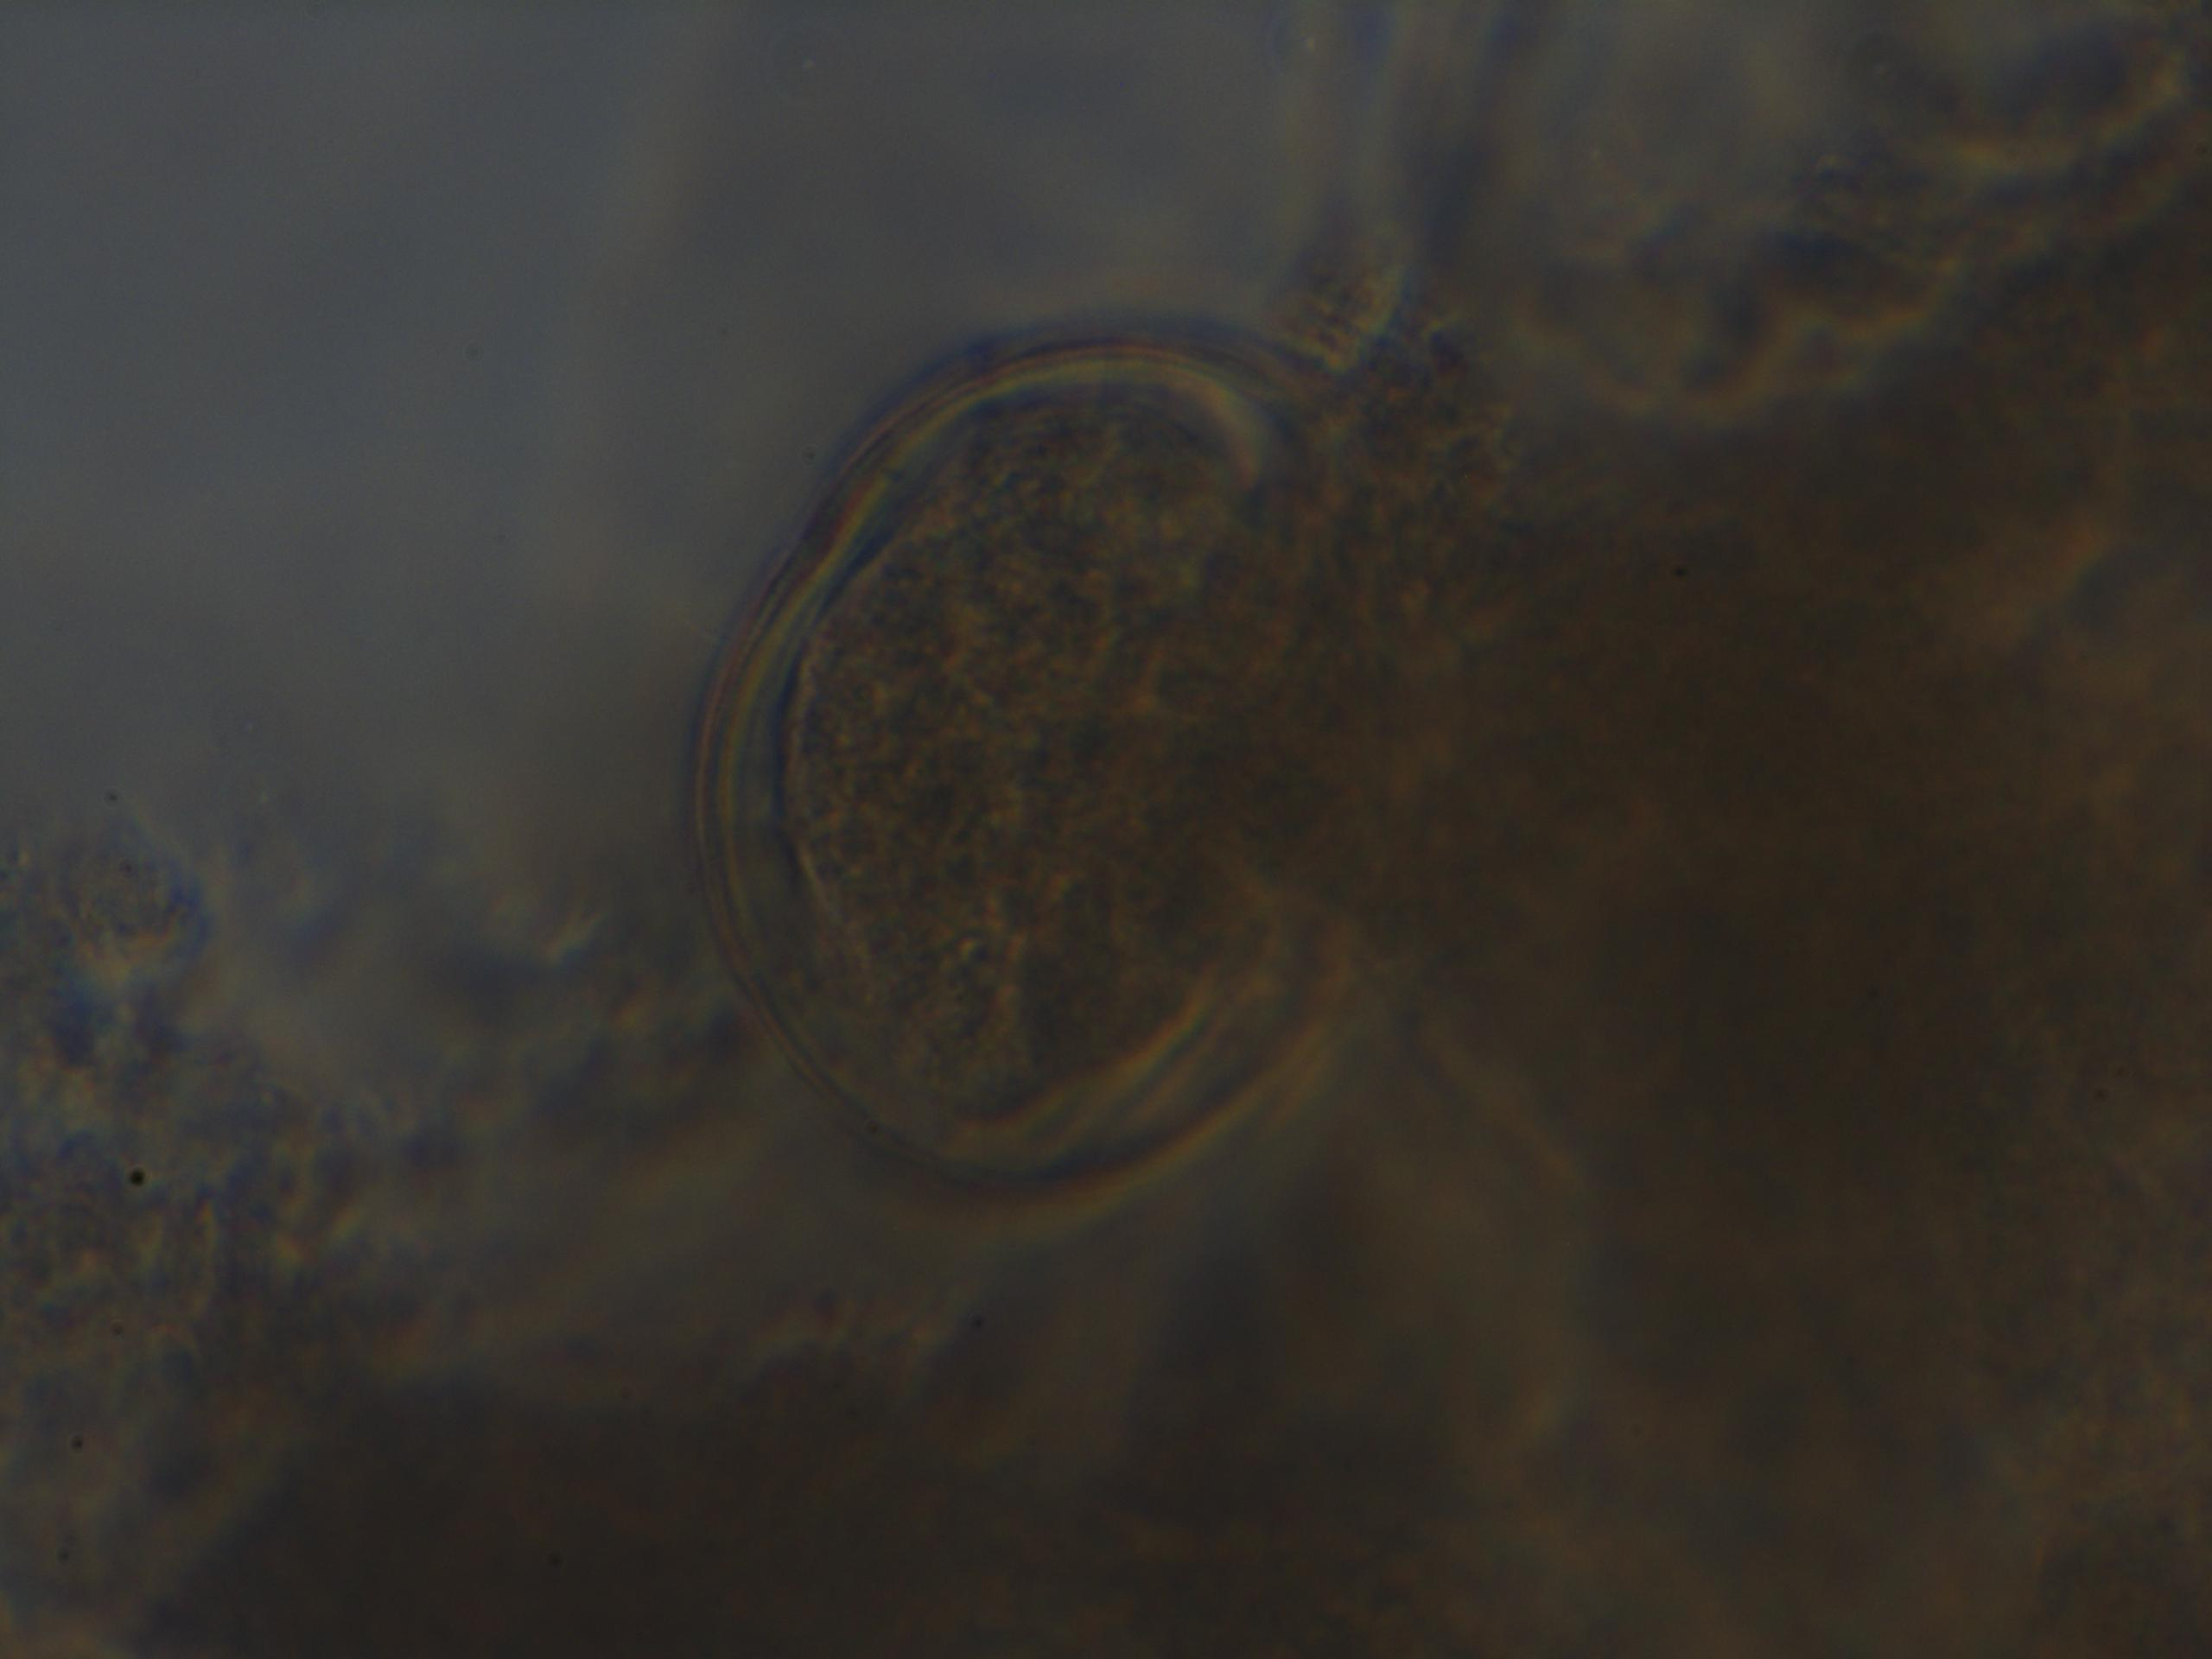protozoa: (676, 312, 1352, 1204)
